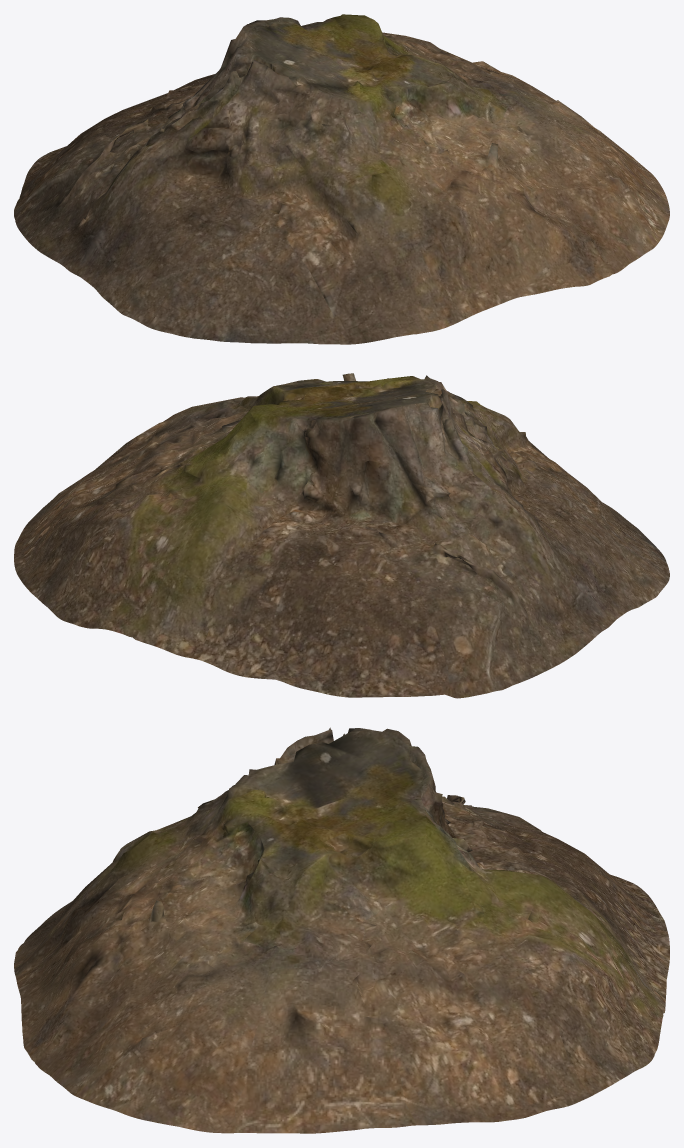
The model's file is tree_stump_02.glb.
The picture shows the model from 3 angles, top to bottom: view 1: azimuth 30°, elevation 25°; view 2: azimuth 150°, elevation 25°; view 3: azimuth 270°, elevation 25°; orthographic projection. The views are drawn at different scales.
Parts seen in each view (by area): view 1: tree_stump_02; view 2: tree_stump_02; view 3: tree_stump_02.
Part boxes in pixels (bbox=[...]): tree_stump_02: bbox=[14, 14, 669, 344]; tree_stump_02: bbox=[14, 373, 669, 698]; tree_stump_02: bbox=[14, 727, 669, 1133].
Size of the model in its own units: 1.52 by 0.5208 by 1.39.
Materials: 1 (1 with a texture image).
